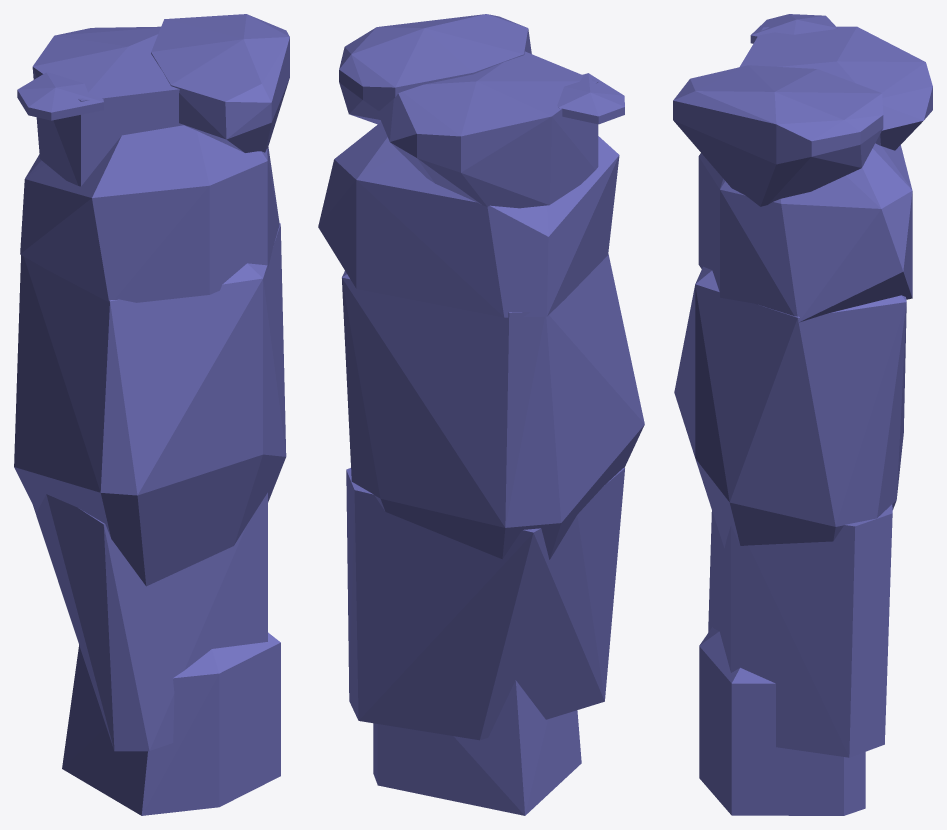
File: Cliff_Spire_05_Collider_01.FBX
3 views of the same model, side by side, from view 1: azimuth 30°, elevation 25°; view 2: azimuth 150°, elevation 25°; view 3: azimuth 270°, elevation 25° (orthographic).
Parts seen in each view (by area): view 1: COLLIDER5, COLLIDER6, COLLIDER4, COLLIDER3, COLLIDER1, COLLIDER2, COLLIDER7; view 2: COLLIDER5, COLLIDER4, COLLIDER6, COLLIDER2, COLLIDER3, COLLIDER1, COLLIDER7; view 3: COLLIDER5, COLLIDER4, COLLIDER6, COLLIDER1, COLLIDER3, COLLIDER2, COLLIDER7.
Boxes of the visible parts, <box> form: COLLIDER5: <box>14,223,286,586</box>; COLLIDER6: <box>20,125,279,302</box>; COLLIDER4: <box>33,492,267,751</box>; COLLIDER3: <box>62,632,280,815</box>; COLLIDER1: <box>151,14,289,152</box>; COLLIDER2: <box>32,26,183,186</box>; COLLIDER7: <box>17,72,103,120</box>; COLLIDER5: <box>342,254,644,559</box>; COLLIDER4: <box>346,468,624,740</box>; COLLIDER6: <box>318,122,619,317</box>; COLLIDER2: <box>377,51,598,208</box>; COLLIDER3: <box>373,680,581,815</box>; COLLIDER1: <box>339,14,531,124</box>; COLLIDER7: <box>557,73,624,124</box>; COLLIDER5: <box>674,266,906,548</box>; COLLIDER4: <box>708,504,892,757</box>; COLLIDER6: <box>698,143,912,322</box>; COLLIDER1: <box>673,65,883,206</box>; COLLIDER3: <box>699,627,865,815</box>; COLLIDER2: <box>739,26,932,150</box>; COLLIDER7: <box>750,14,837,43</box>.
Size of the model in its own units: 265 by 682 by 224.
